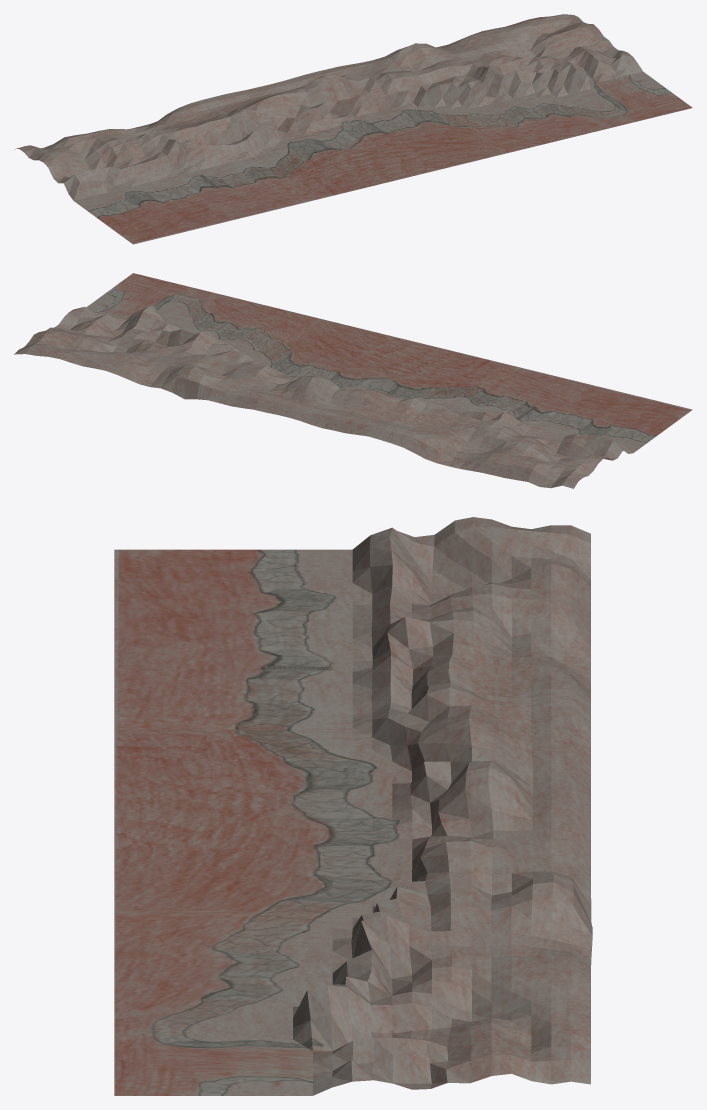
File: terrain.obj
3 views of the same model, one above another, from view 1: azimuth 30°, elevation 25°; view 2: azimuth 150°, elevation 25°; view 3: azimuth 270°, elevation 25° (orthographic). The views are drawn at different scales.
Visible parts, largest first — view 1: Grid_Grid.001; view 2: Grid_Grid.001; view 3: Grid_Grid.001.
Boxes of the visible parts, left/top/right/bottom form: Grid_Grid.001: left=15, top=14, right=692, bottom=244; Grid_Grid.001: left=14, top=273, right=692, bottom=488; Grid_Grid.001: left=114, top=517, right=592, bottom=1095.
Size of the model in its own units: 158 by 8.35 by 58.3.
Materials: 1 (1 with a texture image).
